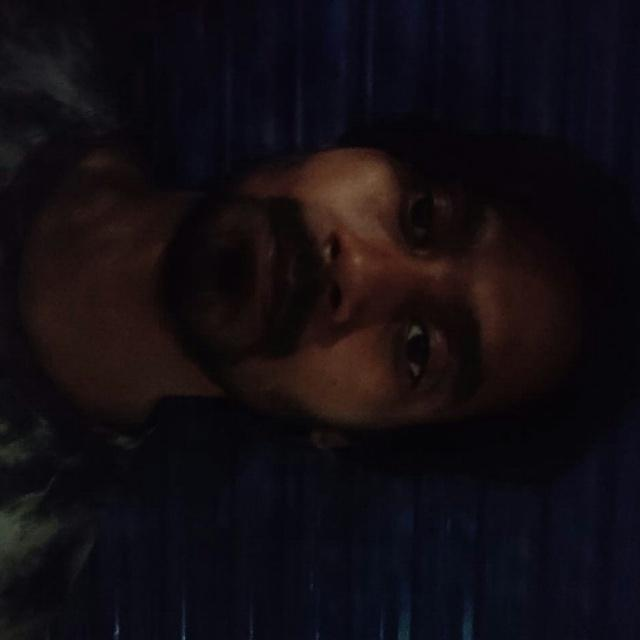Natural: (174, 127, 640, 474)
